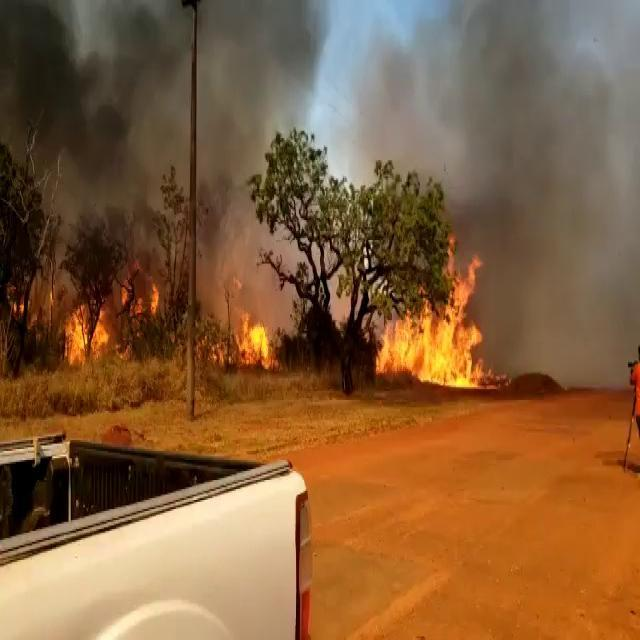Fire: (377, 254, 483, 386), (120, 260, 161, 328), (64, 306, 109, 364), (229, 313, 273, 368), (7, 284, 24, 318)
Smoke: (451, 0, 640, 245), (0, 0, 187, 224), (200, 3, 312, 159)
